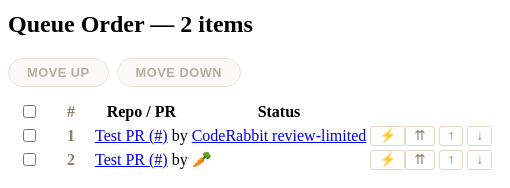
it: QueueOrder › select all › deselects all when header checkbox is clicked twice
Click the checkbox named "Select all items": (30, 111) [23,105,36,118]
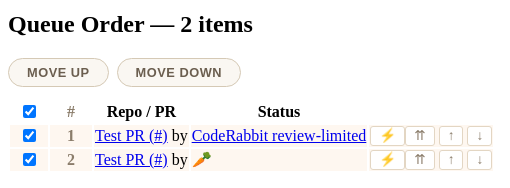
Click the checkbox named "Select all items": (30, 111) [23,105,36,118]
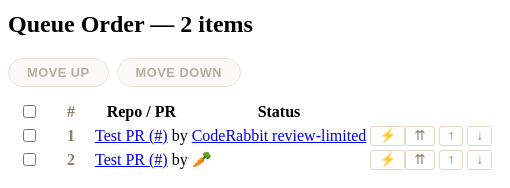
Expected: the checkbox named "Select all items" is not checked, [23,105,36,118]
Expected: the checkbox named "Select #" in the row of "CodeRabbit review-limited" is not checked, [23,129,36,142]
Expected: the 2nd checkbox named "Select #" is not checked, [23,153,36,166]
